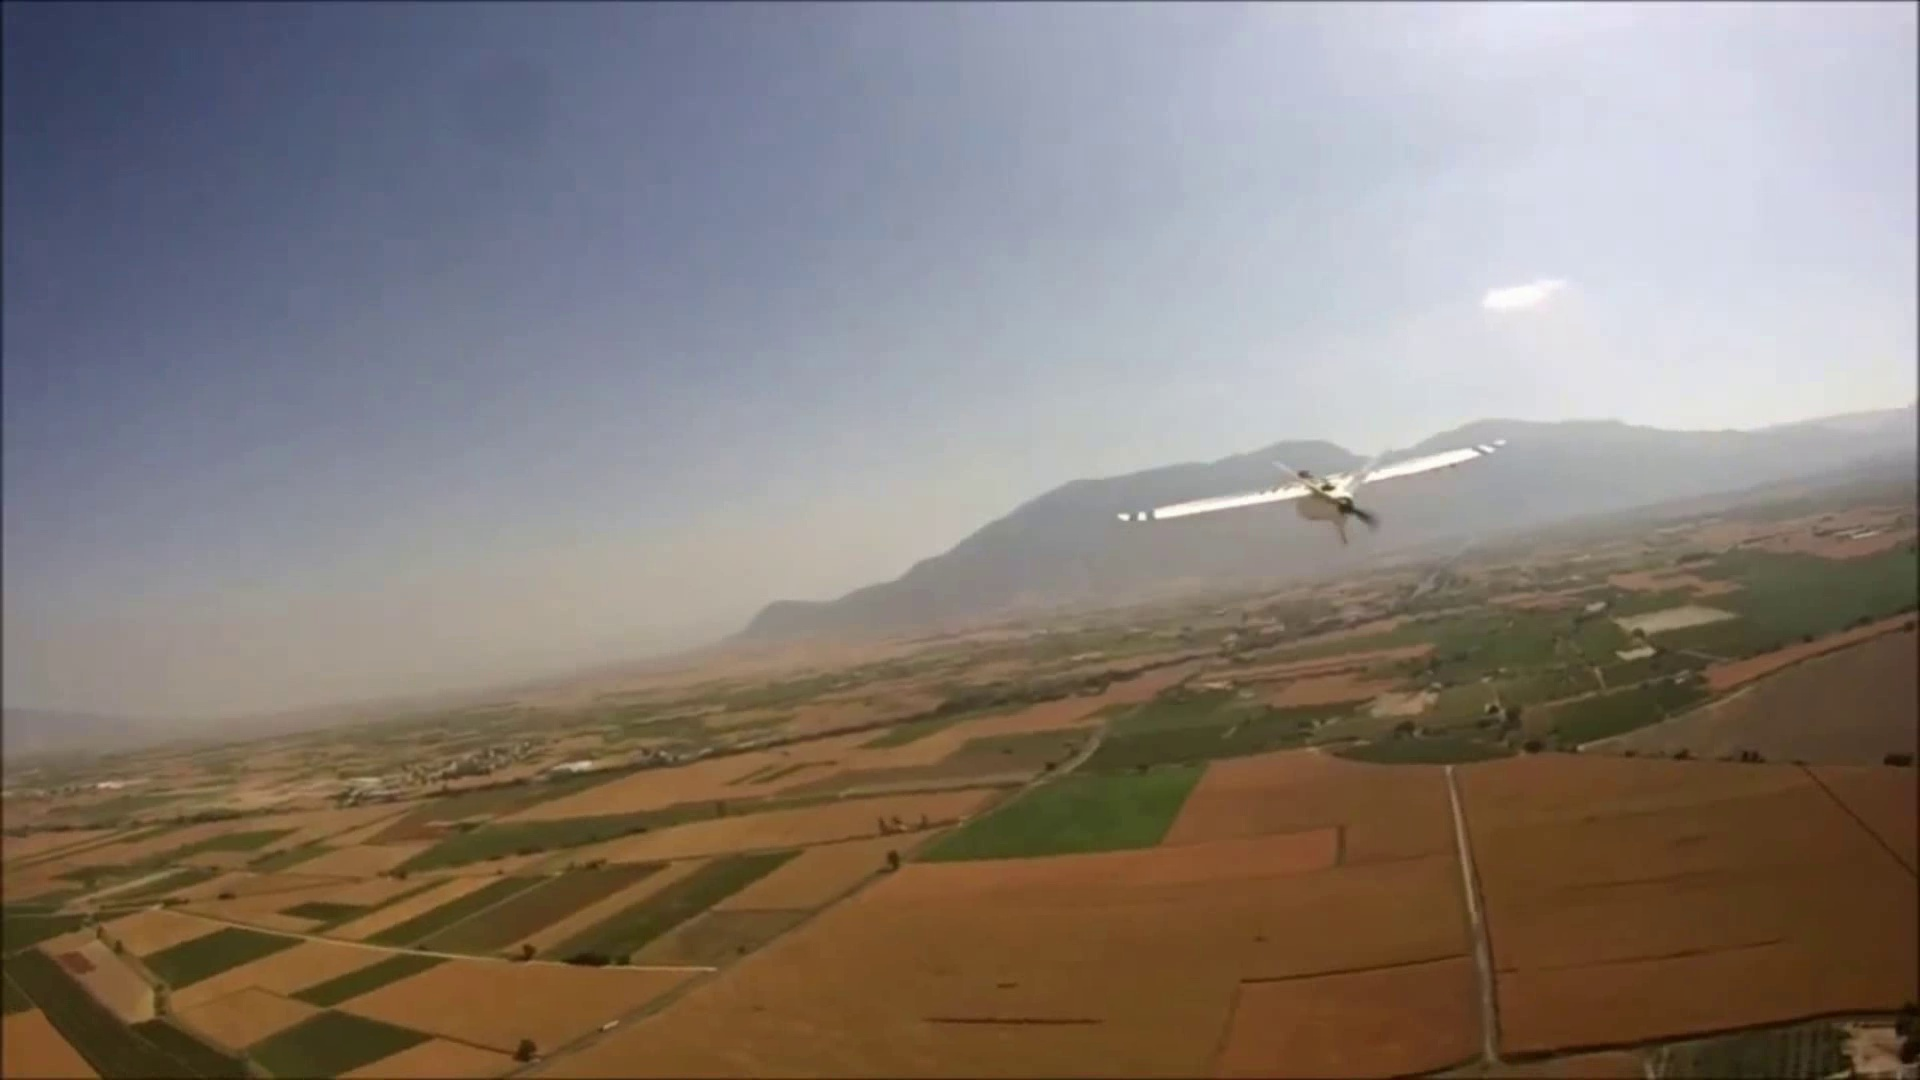airplane: (1118, 431, 1503, 542)
